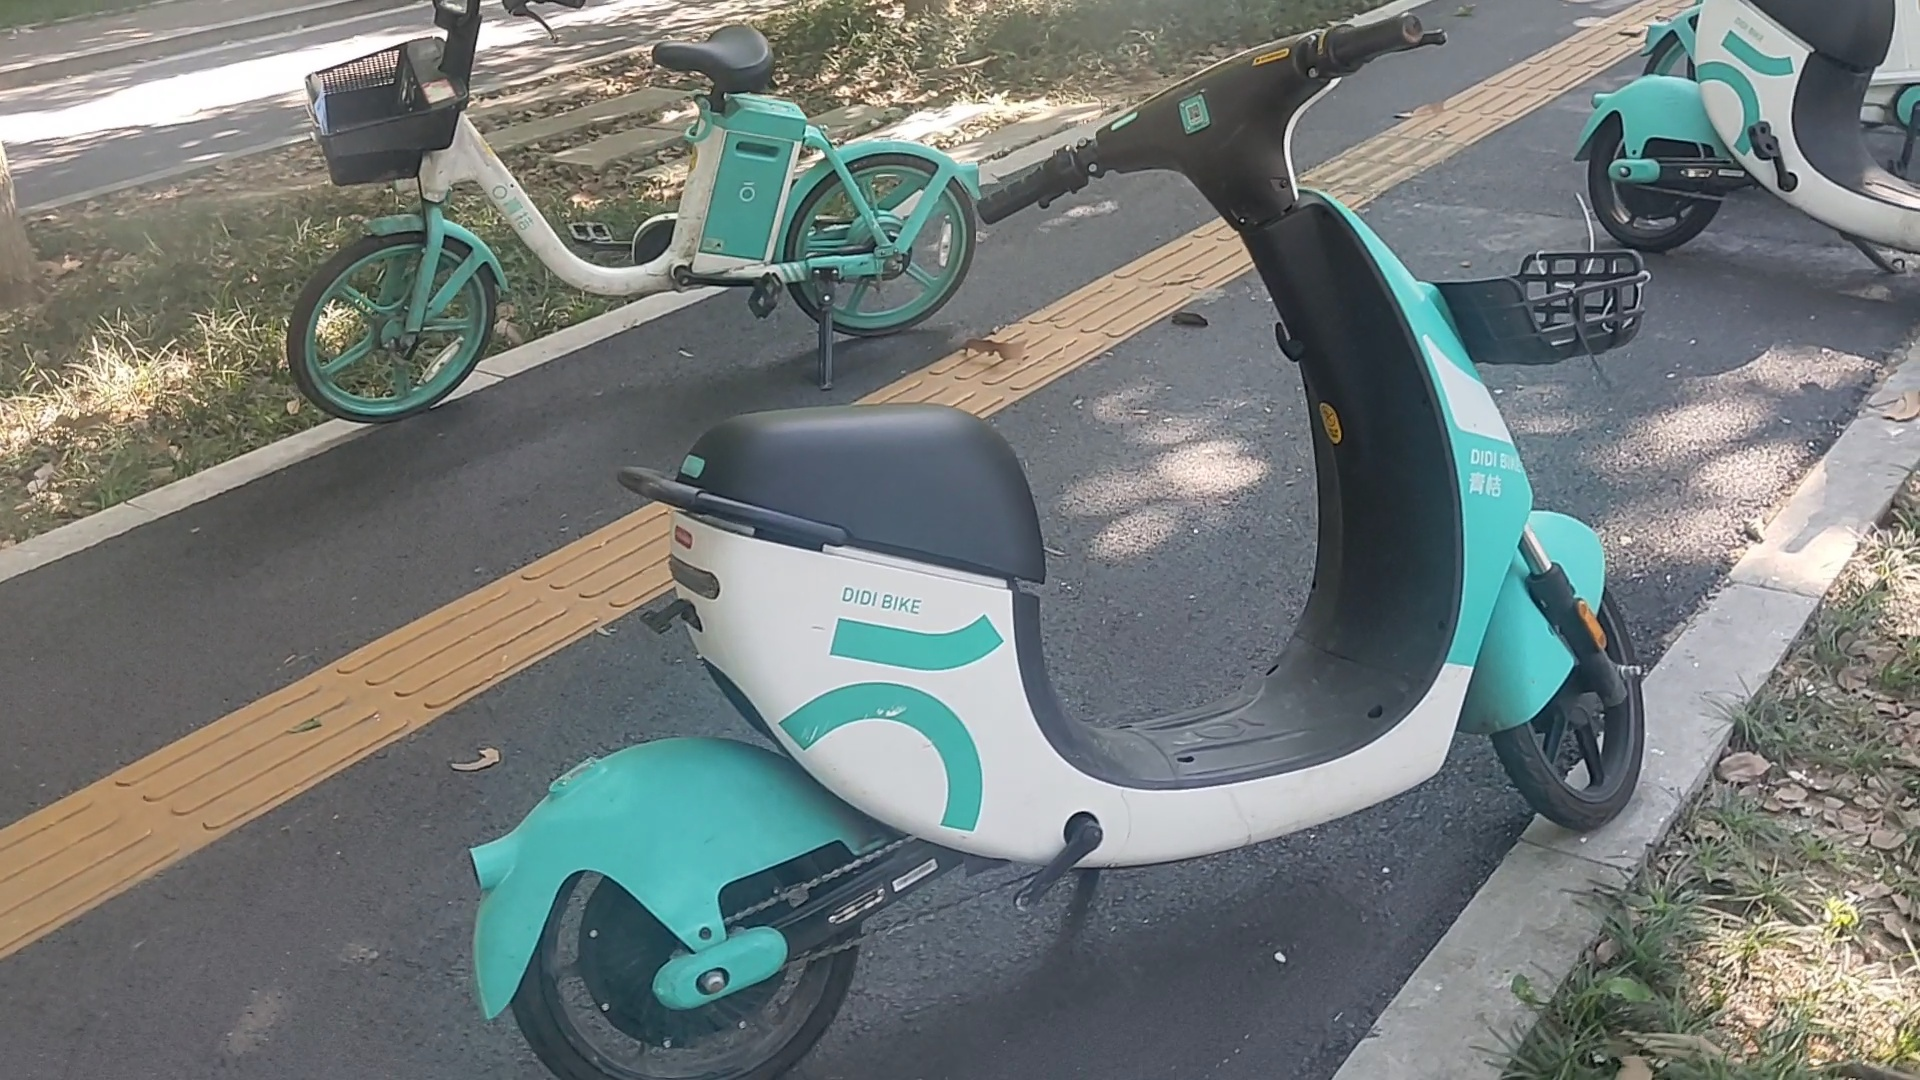non-vehicle: (380, 1, 1734, 1080), (280, 1, 978, 427), (1581, 1, 1920, 253)
